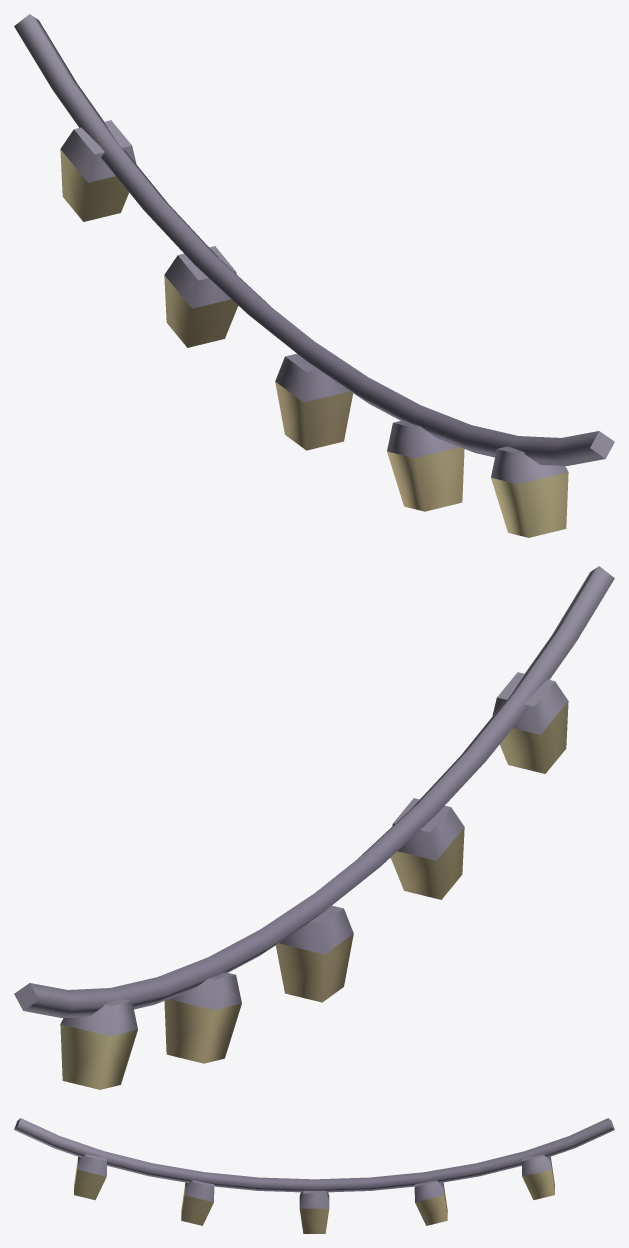
The model's file is lights-fairy-a (%wall).glb.
3 renders of one model, top to bottom at view 1: azimuth 30°, elevation 25°; view 2: azimuth 150°, elevation 25°; view 3: azimuth 270°, elevation 25°, orthographic. The views are drawn at different scales.
Visible parts, largest first — view 1: lights-fairy-a (%wall); view 2: lights-fairy-a (%wall); view 3: lights-fairy-a (%wall).
Part boxes in pixels (bbox=[...]): lights-fairy-a (%wall): bbox=[14, 14, 614, 537]; lights-fairy-a (%wall): bbox=[14, 566, 614, 1089]; lights-fairy-a (%wall): bbox=[14, 1118, 614, 1233].
Bounding box in the file's own units: 0.05 × 0.2066 × 1.01.
